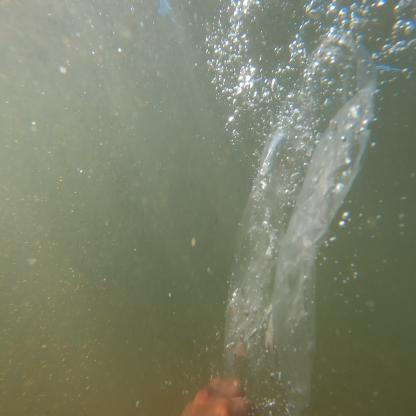Rác: (216, 99, 379, 415)
